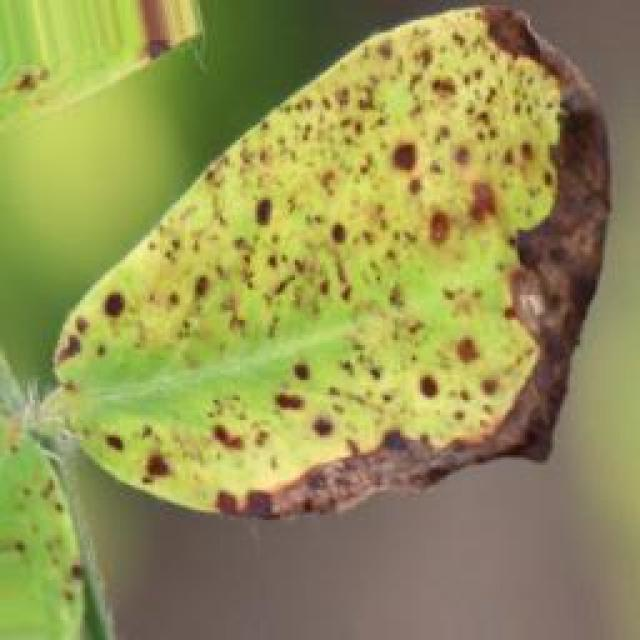Yellowish: (20, 0, 572, 605)
